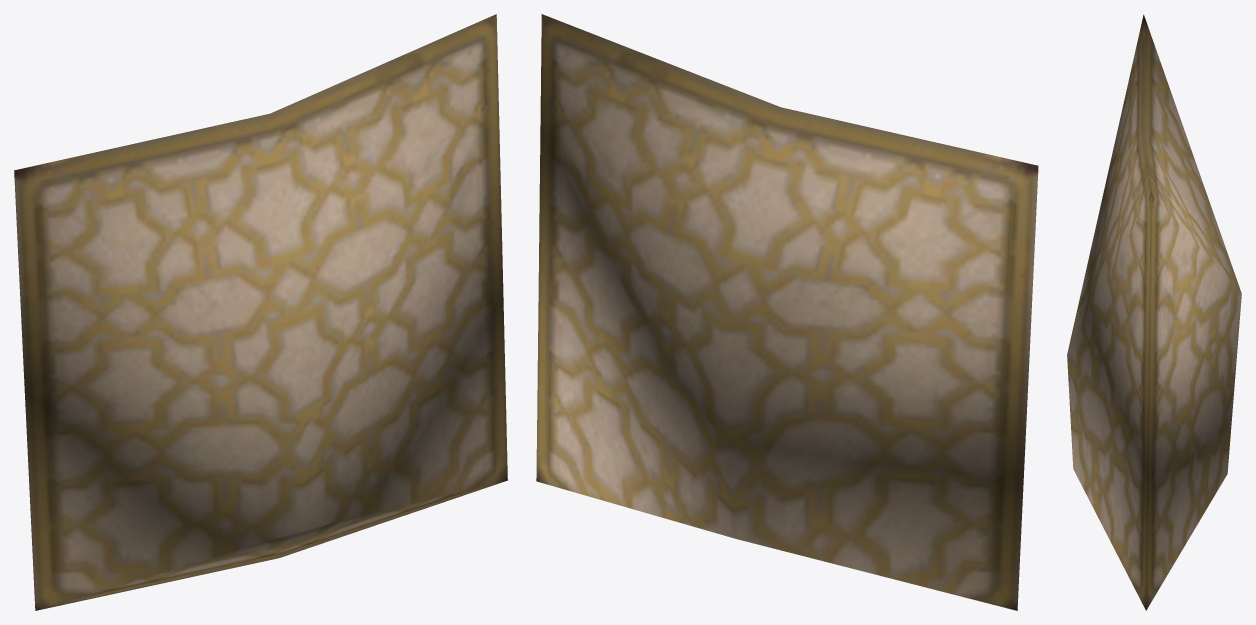
File: nt2020_sofa_pillow_LOD2.obj
The picture shows the model from 3 angles, left to right: view 1: azimuth 30°, elevation 25°; view 2: azimuth 150°, elevation 25°; view 3: azimuth 270°, elevation 25°; orthographic projection. The views are drawn at different scales.
Visible parts, largest first — view 1: mtl_dub_lounge_sofa_06_pillow; view 2: mtl_dub_lounge_sofa_06_pillow; view 3: mtl_dub_lounge_sofa_06_pillow.
Boxes of the visible parts, x1=… form: mtl_dub_lounge_sofa_06_pillow: x1=14, y1=14, x2=507, y2=610; mtl_dub_lounge_sofa_06_pillow: x1=536, y1=14, x2=1038, y2=610; mtl_dub_lounge_sofa_06_pillow: x1=1067, y1=14, x2=1241, y2=610.
Size of the model in its own units: 52.21 by 48.37 by 18.01.
